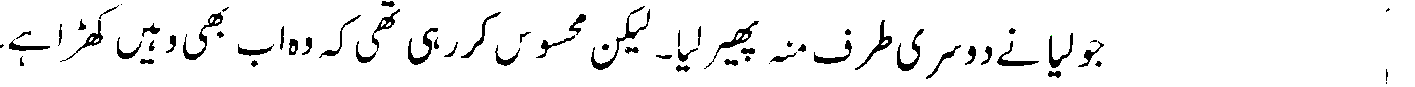bay_shosha: (233, 40, 275, 68)
